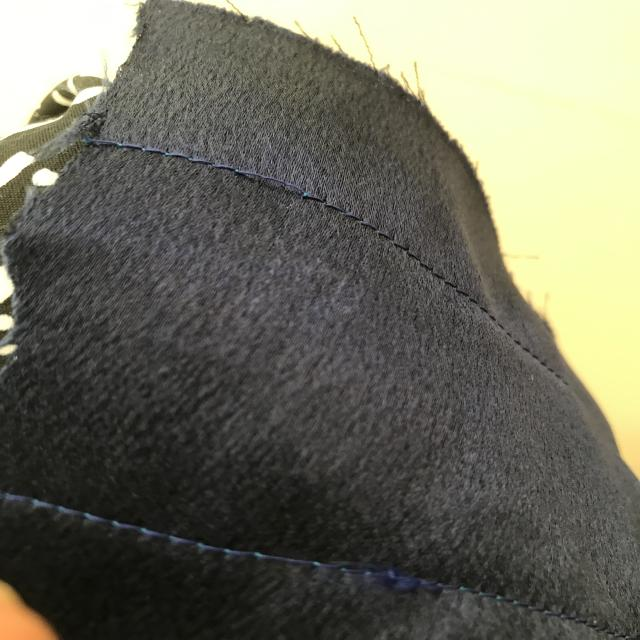skip: (224, 146, 314, 213)
